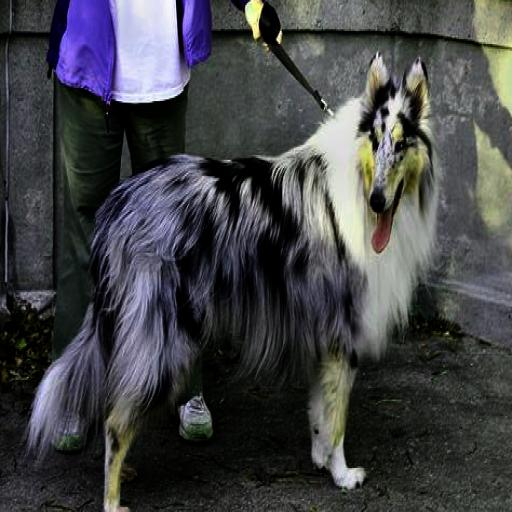dog_face: (366, 48, 436, 249)
